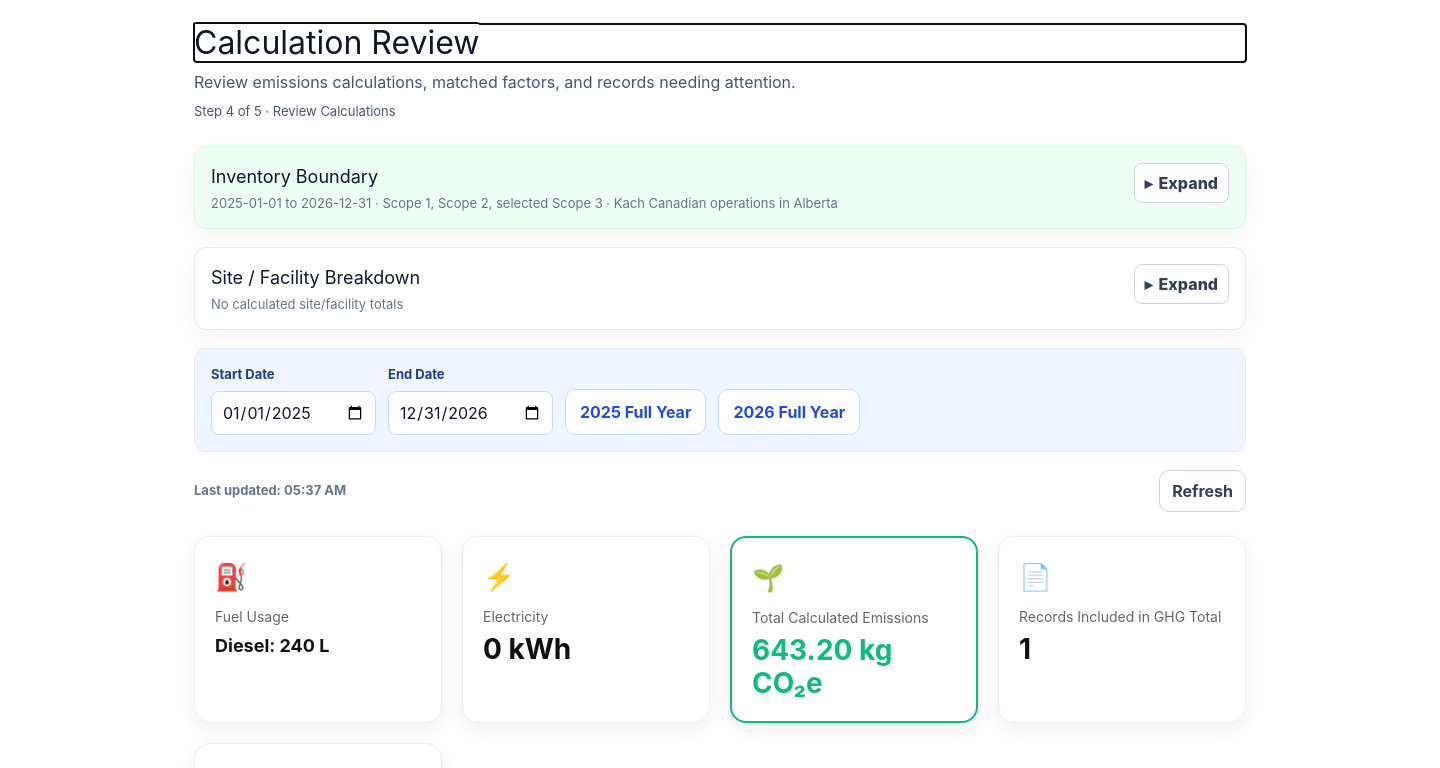
Scenario: MetricsSummaryPage automatic refresh UX › loads backend organization profile values into the Inventory Boundary for authenticated users
The image size is (1440, 768).
Expected: the element "Inventory Boundary" shows "2025-01-01 to 2026-12-31 · Scope 1, Scope 2, selected Scope 3 · Kach Canadian operations in Alberta", [211, 195, 838, 211]
Click the button with aria-label "Expand Inventory Boundary".
click(1181, 183)  # box [1134, 163, 1229, 203]
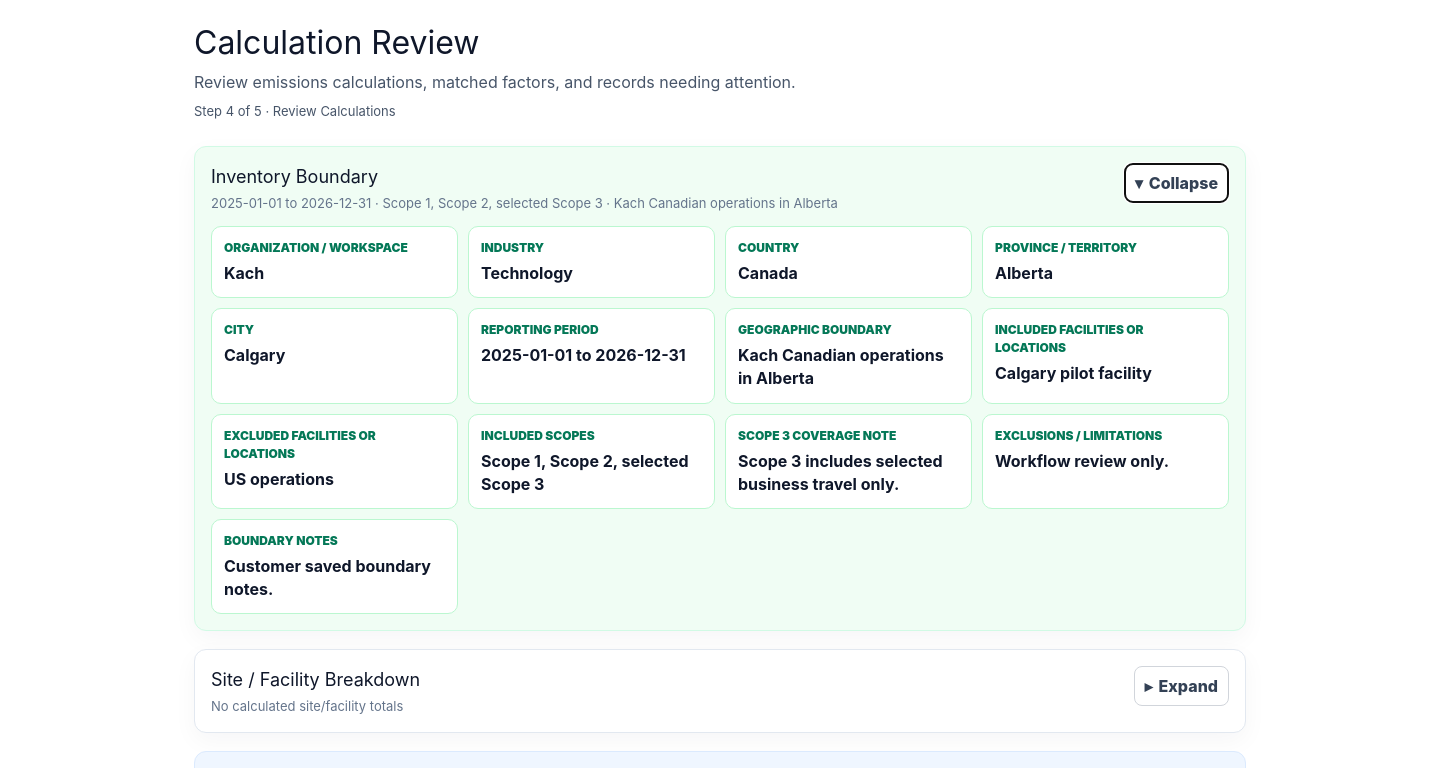
Expected: the text "Kach" is shown, [224, 263, 264, 283]
Expected: the text "Kach Canadian operations in Alberta" is shown, [738, 344, 959, 391]
Expected: the text "Calgary pilot facility" is shown, [995, 363, 1152, 383]
